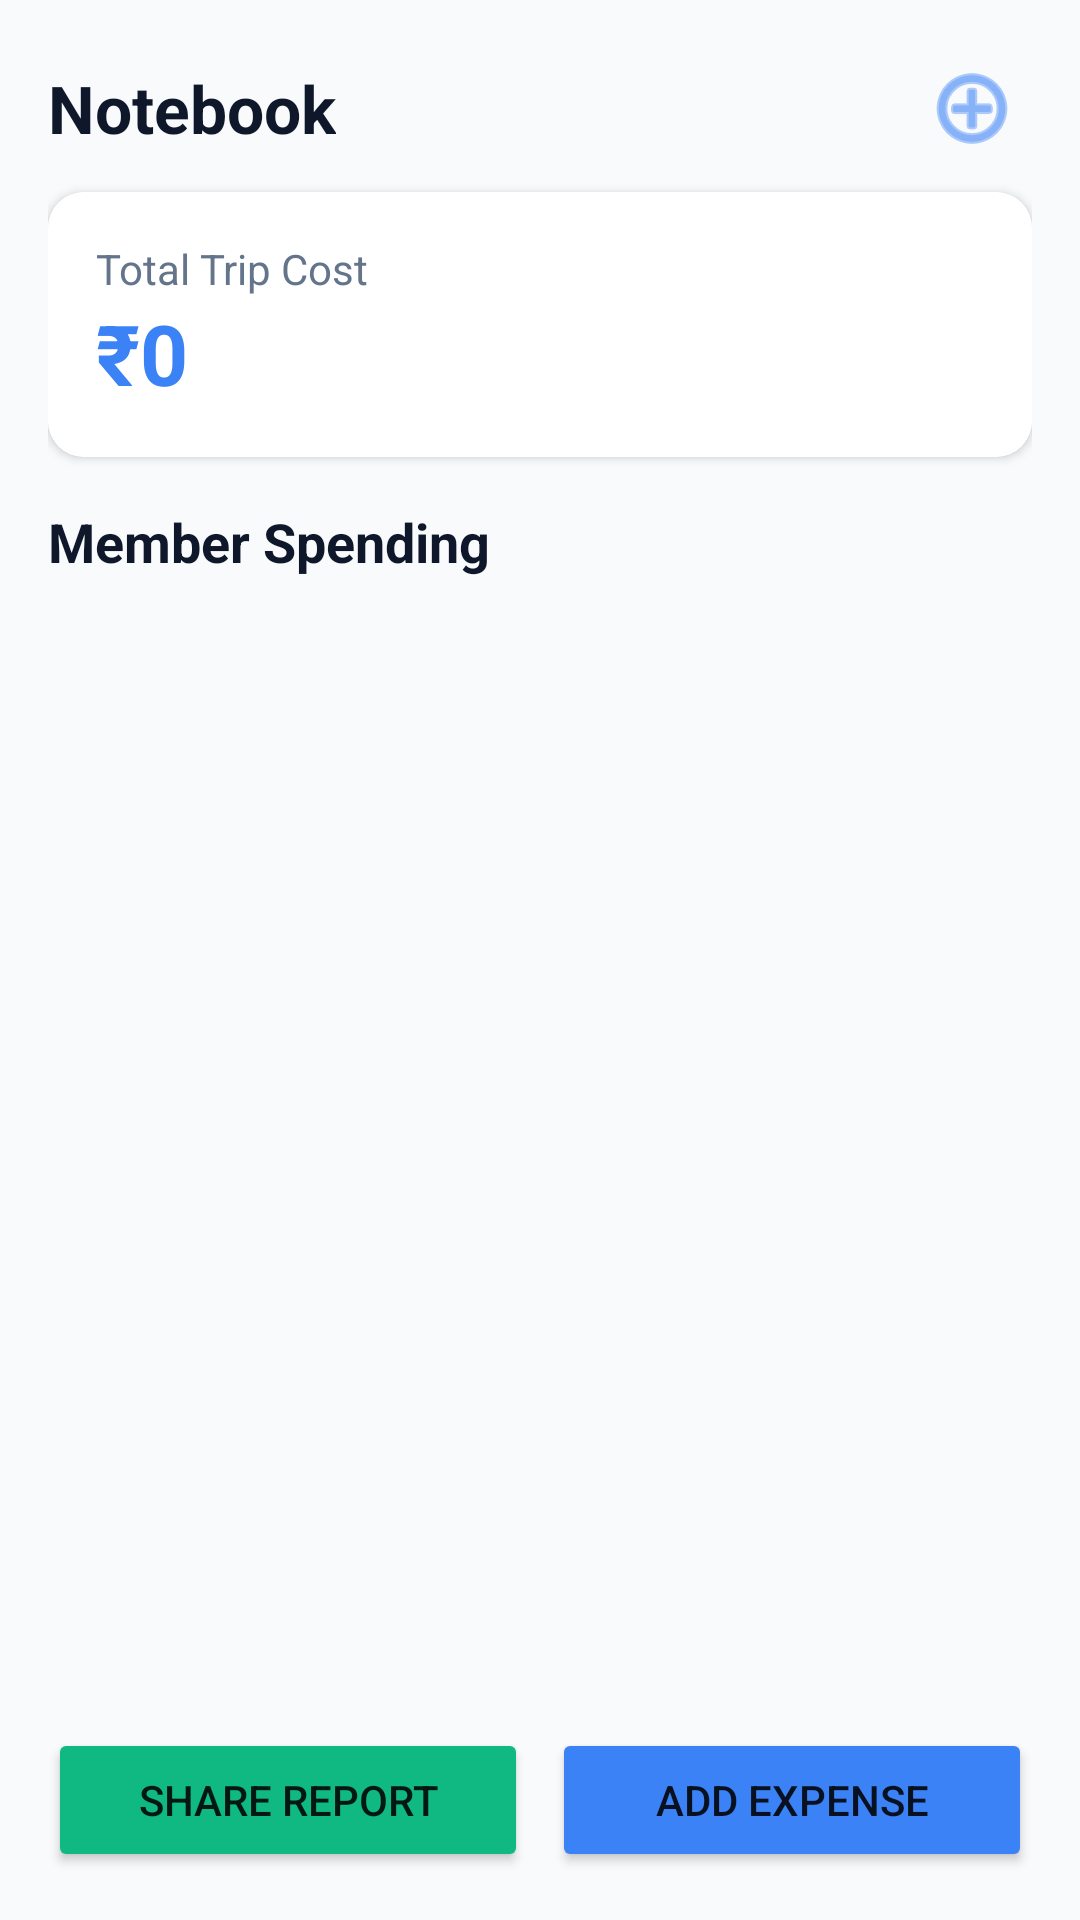

Icons on this 1080w x 1920h Android screen, each with the point to tap as (x,y):
add: (972,108)
